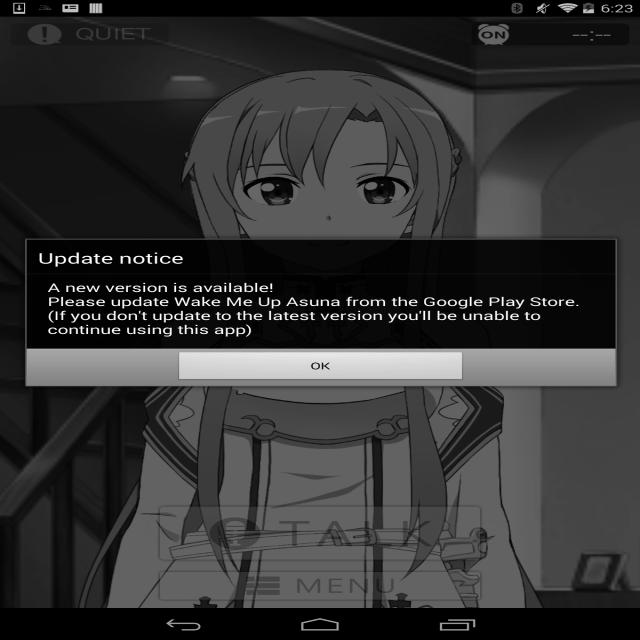Button: (222, 406, 316, 472), (324, 406, 418, 472), (426, 406, 520, 472), (222, 352, 409, 376), (427, 352, 614, 376)
ImageButton: (9, 17, 68, 59)
ImageView: (0, 59, 640, 254), (26, 270, 196, 377), (332, 406, 411, 455), (434, 406, 513, 455), (68, 30, 233, 46), (589, 22, 631, 54), (26, 566, 51, 582), (222, 312, 239, 323), (285, 464, 293, 469)
TextView: (0, 490, 640, 537), (77, 584, 614, 628), (222, 270, 614, 295), (77, 566, 614, 584), (222, 295, 478, 309), (538, 22, 588, 54), (324, 455, 418, 472), (426, 455, 520, 472), (120, 455, 213, 472), (498, 380, 614, 392), (245, 311, 316, 325), (144, 420, 188, 440), (250, 415, 288, 437), (244, 455, 282, 472), (133, 443, 200, 452)
